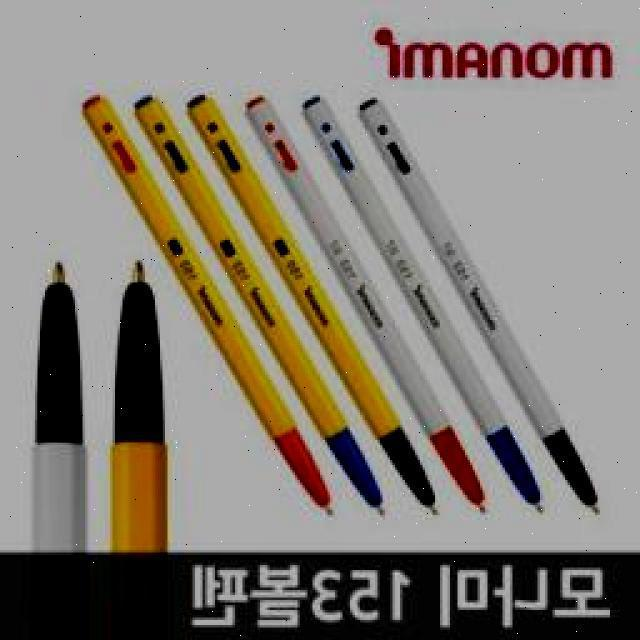pen: (352, 95, 602, 518)
